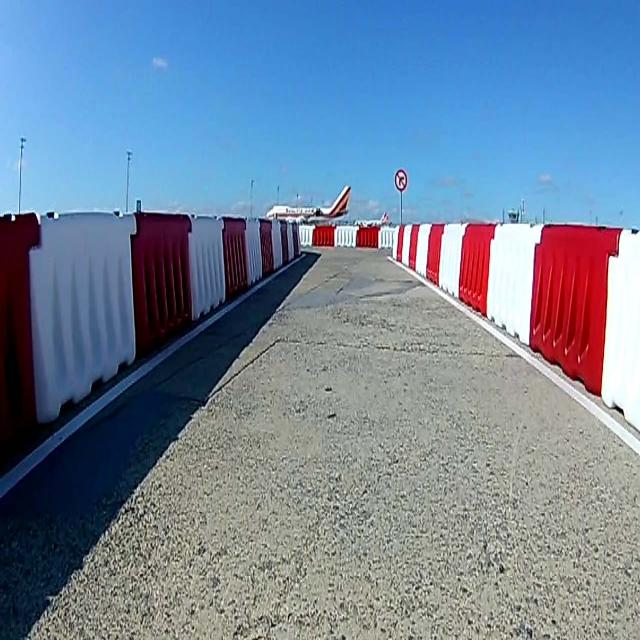sagadonulmez: (394, 168, 408, 193)
